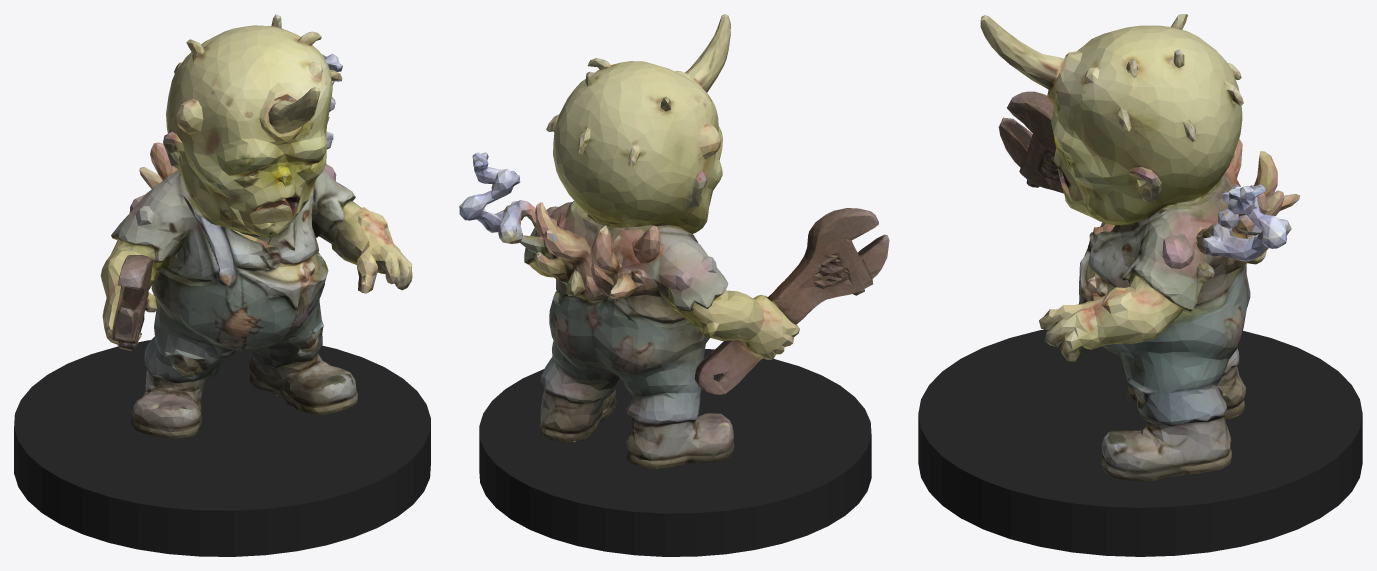
File: poxwalker.glb
3 renders of one model, left to right at view 1: azimuth 30°, elevation 25°; view 2: azimuth 150°, elevation 25°; view 3: azimuth 270°, elevation 25°, orthographic. The views are drawn at different scales.
Parts seen in each view (by area): view 1: figure, base; view 2: figure, base; view 3: figure, base.
Part boxes in pixels (x1=…): figure: x1=100, y1=14, x2=412, y2=438; base: x1=14, y1=340, x2=430, y2=556; figure: x1=459, y1=14, x2=889, y2=468; base: x1=479, y1=349, x2=871, y2=556; figure: x1=980, y1=14, x2=1300, y2=481; base: x1=918, y1=329, x2=1362, y2=556.
Size of the model in its own units: 0.9843 by 1.12 by 0.9843.
Materials: 2 (1 with a texture image).
